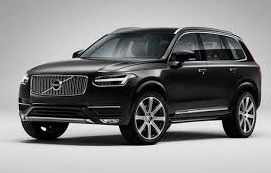car: (17, 25, 263, 149)
